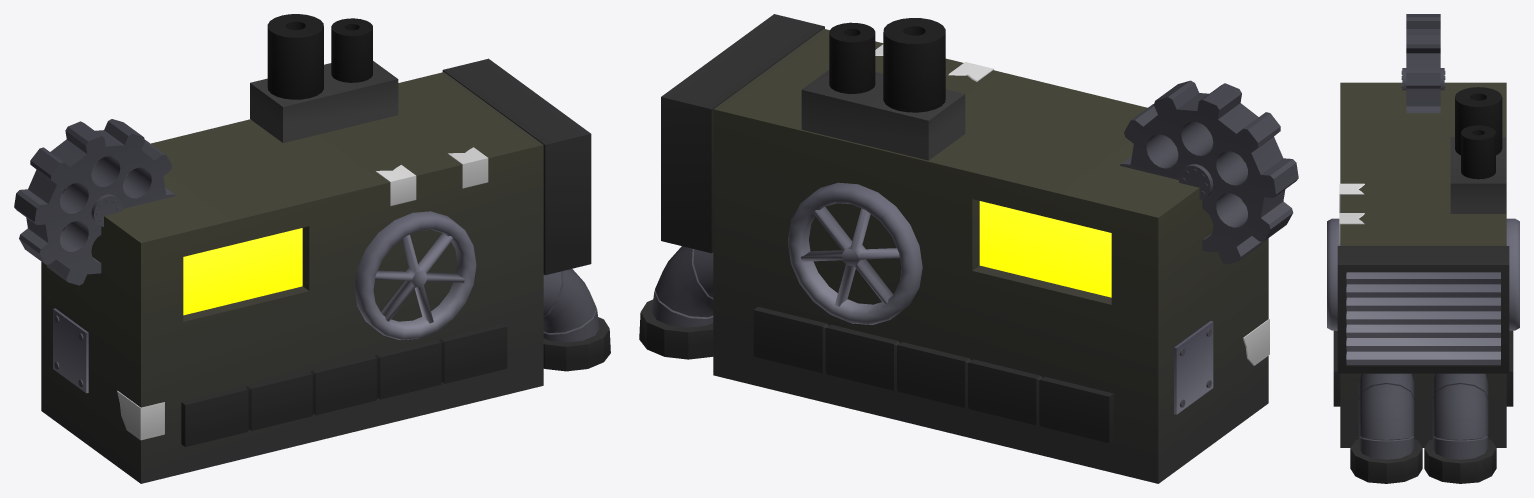
3 views of the same model, side by side, from view 1: azimuth 30°, elevation 25°; view 2: azimuth 150°, elevation 25°; view 3: azimuth 270°, elevation 25° (orthographic). The views are drawn at different scales.
Visible parts, largest first — view 1: Small Generator, Object001_Small Generator_0; view 2: Small Generator, Object001_Small Generator_0; view 3: Small Generator, Object001_Small Generator_0.
Boxes of the visible parts, x1=… form: Small Generator: x1=41, y1=14, x2=610, y2=483; Object001_Small Generator_0: x1=14, y1=119, x2=175, y2=285; Small Generator: x1=639, y1=14, x2=1269, y2=483; Object001_Small Generator_0: x1=1120, y1=80, x2=1298, y2=264; Small Generator: x1=1327, y1=68, x2=1519, y2=483; Object001_Small Generator_0: x1=1406, y1=14, x2=1440, y2=113.
Size of the model in its own units: 485 by 282 by 174.
1 material, 1 textured.
